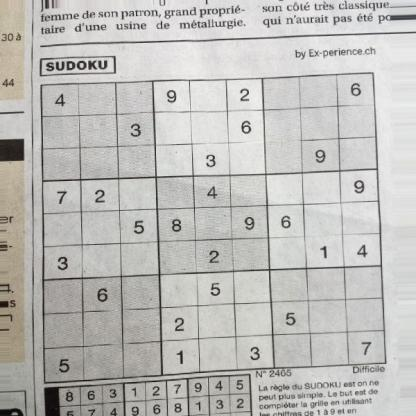sudoku: (38, 68, 389, 390)
